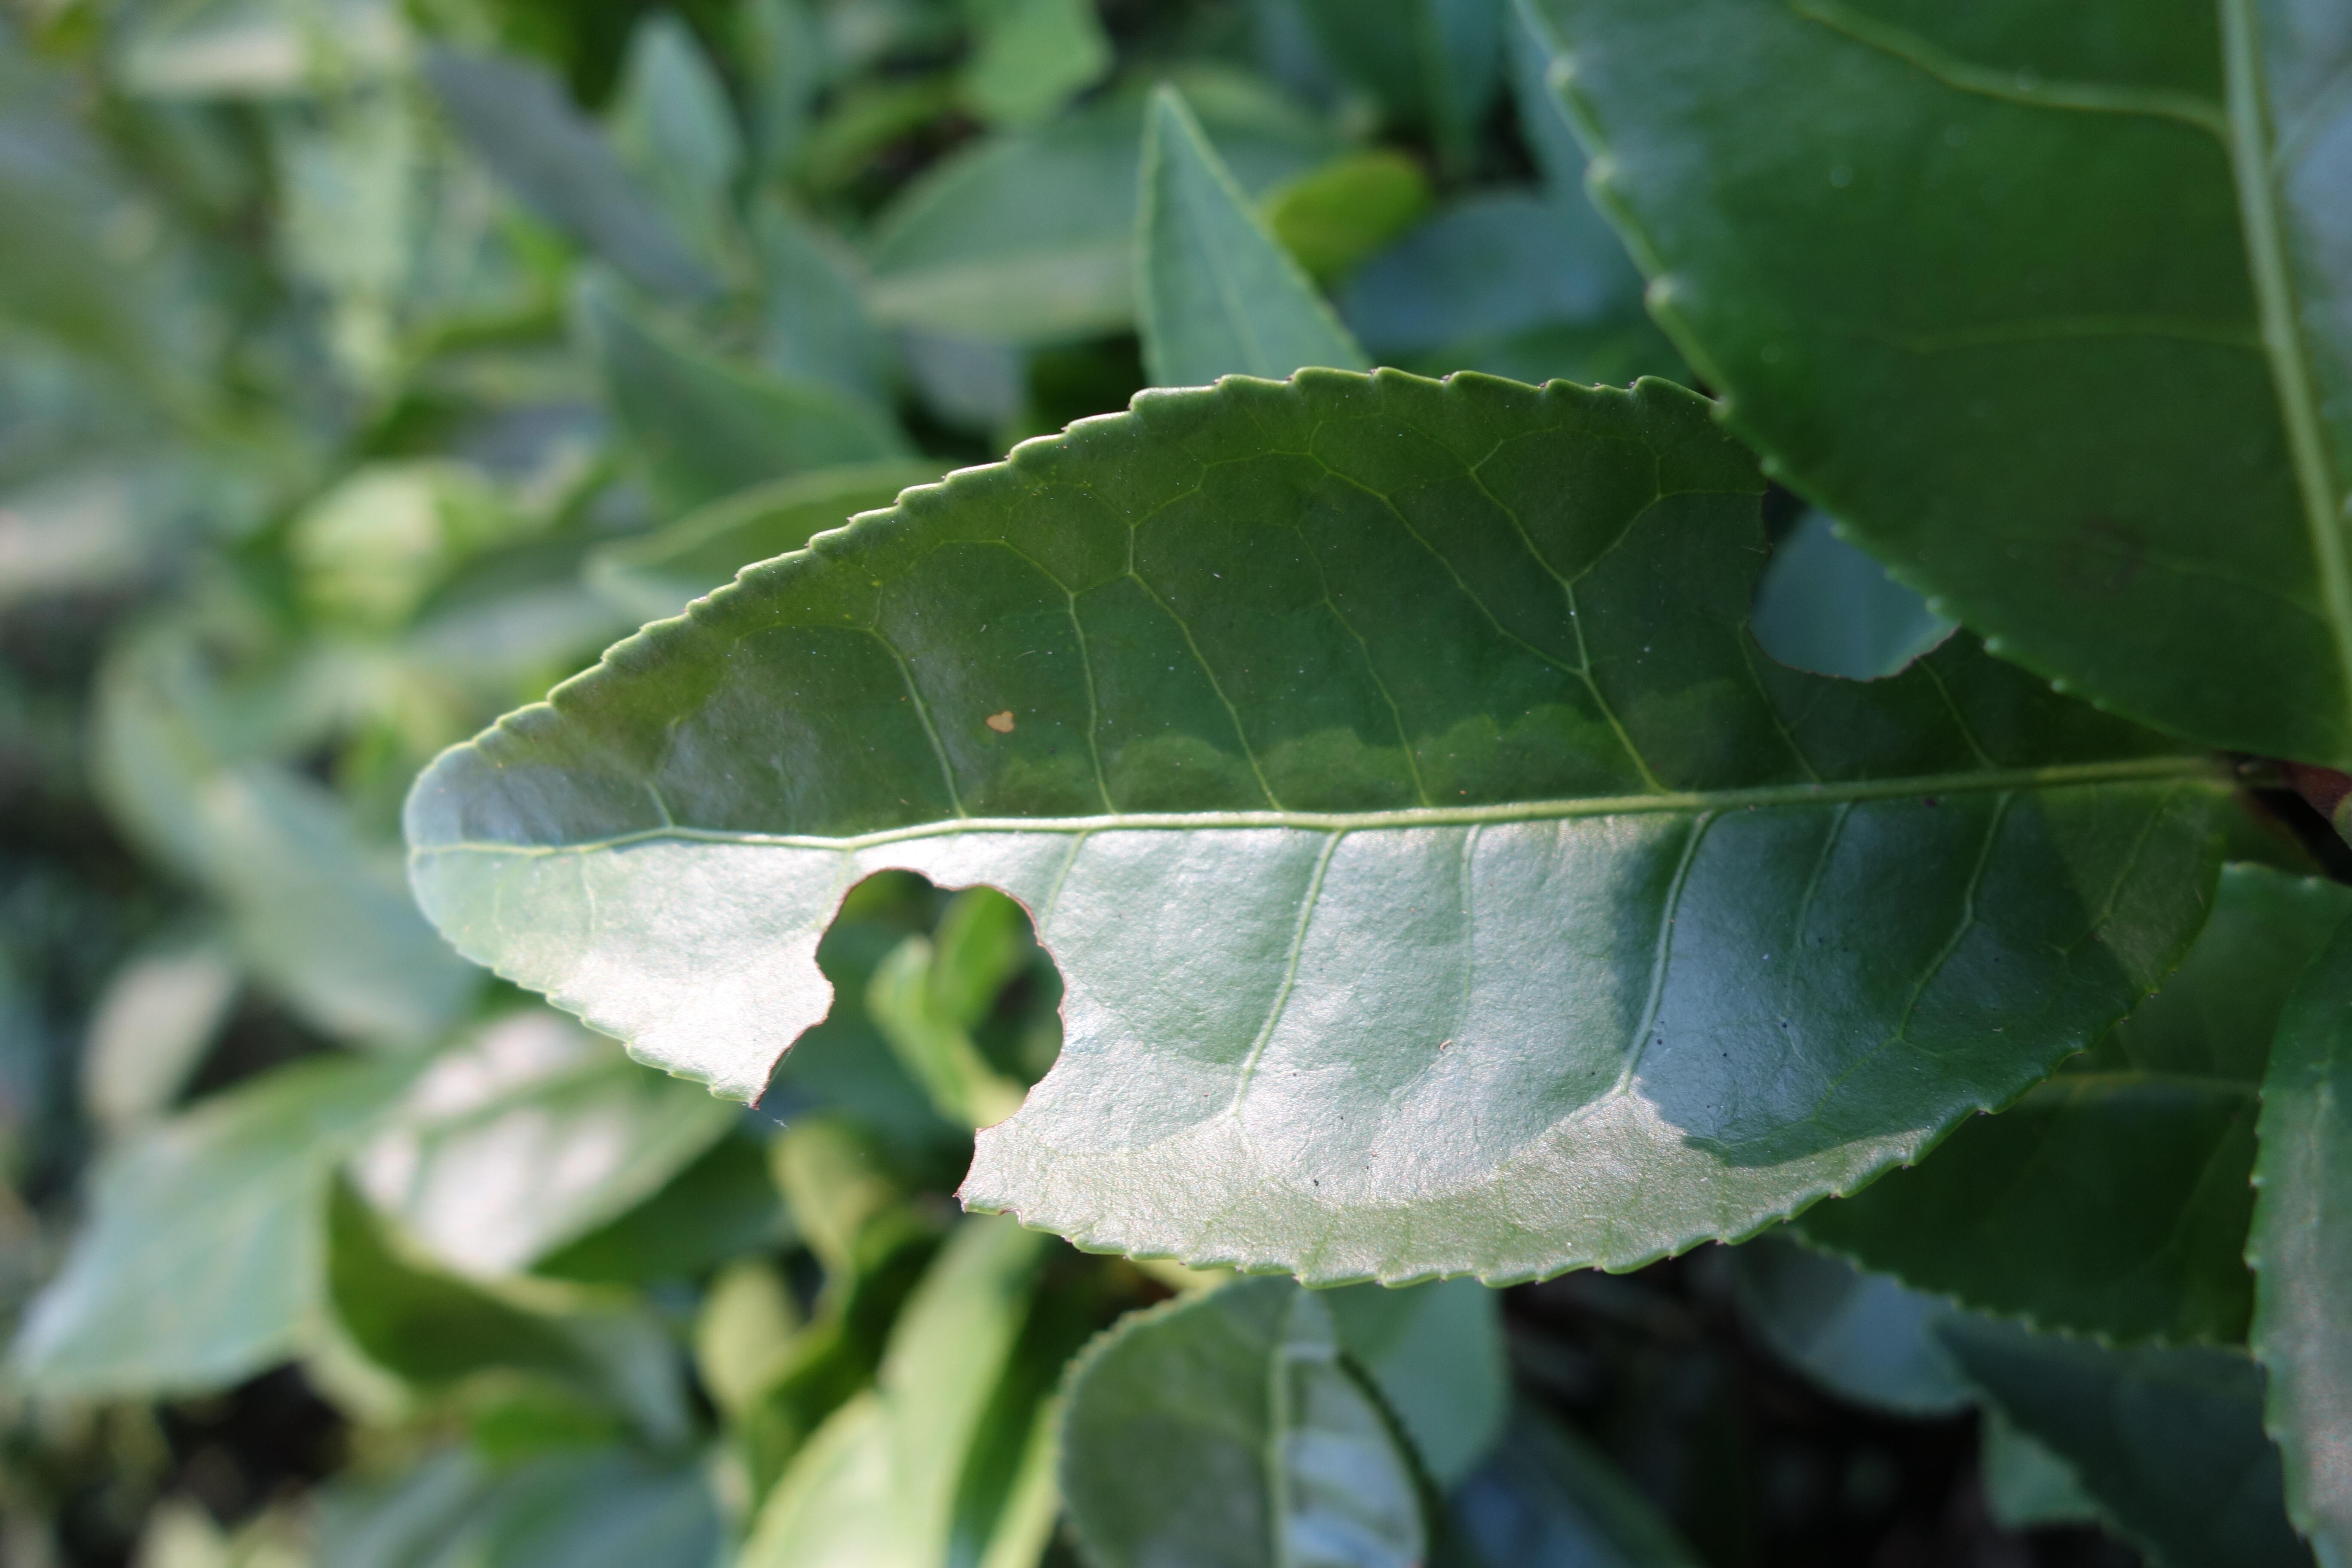chihuo_high: (392, 367, 2222, 1295)
